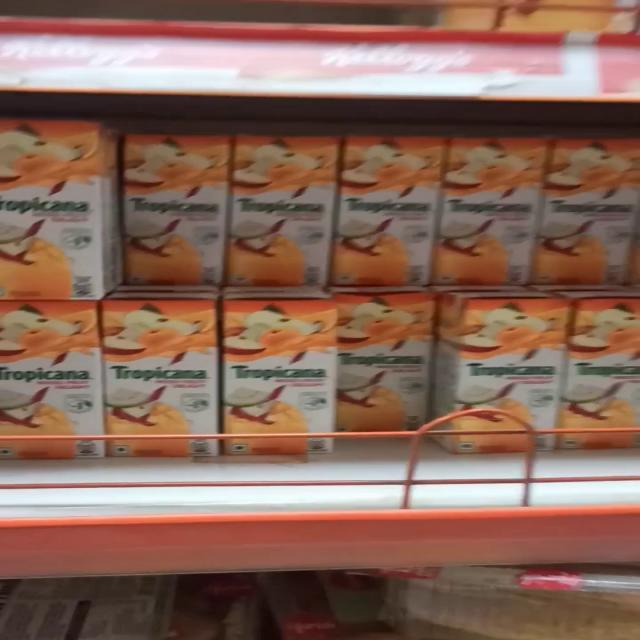Tropicana: (110, 302, 220, 459), (229, 135, 335, 296), (440, 132, 546, 289), (117, 130, 220, 288), (228, 306, 332, 462), (454, 303, 562, 452), (332, 136, 436, 288), (546, 136, 636, 282)
